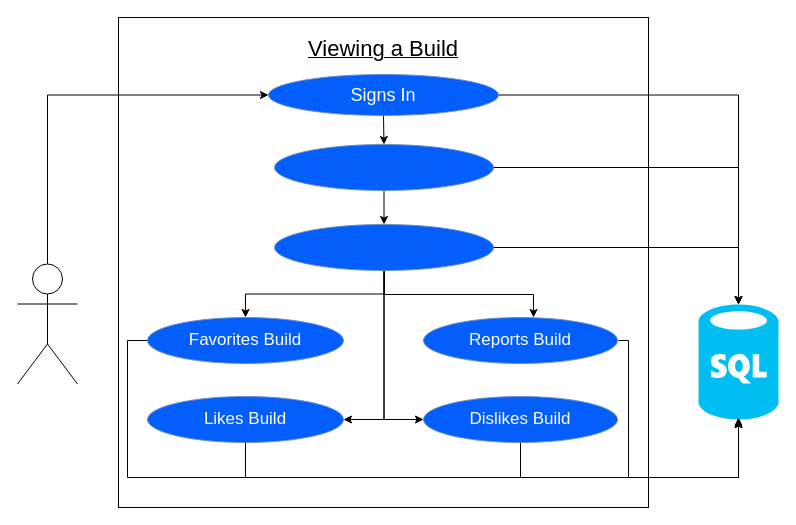
Some shapes in this 796 by 525 pixel diagram are drawn without their labels. The centre of each missing label's shape, as x and y in pixels:
Searches for Builds: point (384, 167)
Selects a Build to View: point (384, 247)
User: point (47, 323)
